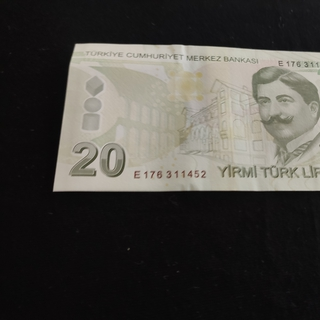20TLBack: (52, 42, 320, 203)
